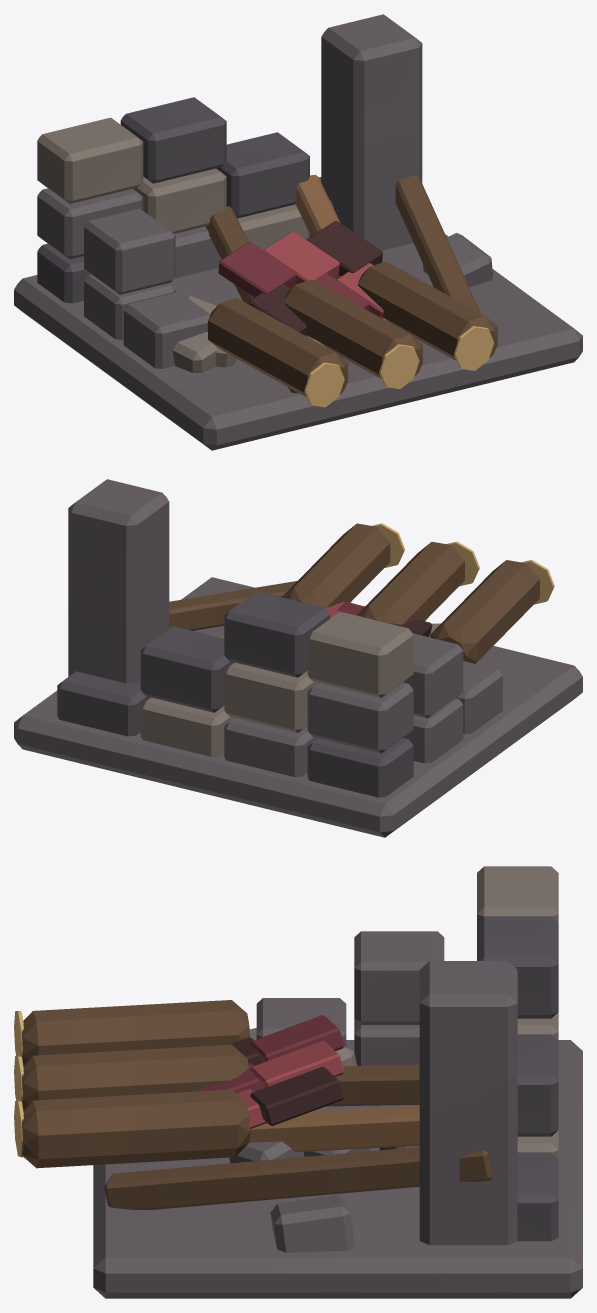
File: ruin_sawmill-CCeQEg08.glb
The picture shows the model from 3 angles, top to bottom: view 1: azimuth 30°, elevation 25°; view 2: azimuth 150°, elevation 25°; view 3: azimuth 270°, elevation 25°; orthographic projection. The views are drawn at different scales.
Visible parts, largest first — view 1: ruin_sawmill_l1_body; view 2: ruin_sawmill_l1_body; view 3: ruin_sawmill_l1_body.
Part boxes in pixels (box(x1,y1,x2,y2)): ruin_sawmill_l1_body: box(14, 14, 582, 450); ruin_sawmill_l1_body: box(14, 479, 582, 837); ruin_sawmill_l1_body: box(14, 866, 582, 1298).
Size of the model in its own units: 0.66 by 0.39 by 0.6972.
Materials: 1 (1 with a texture image).
